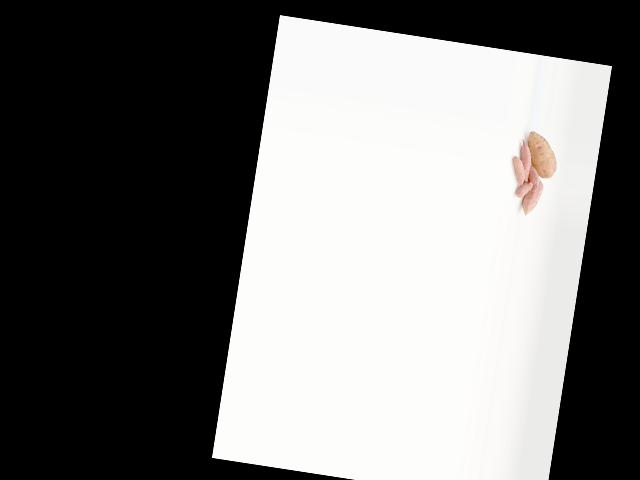sweet_potato: (520, 179, 544, 218)
